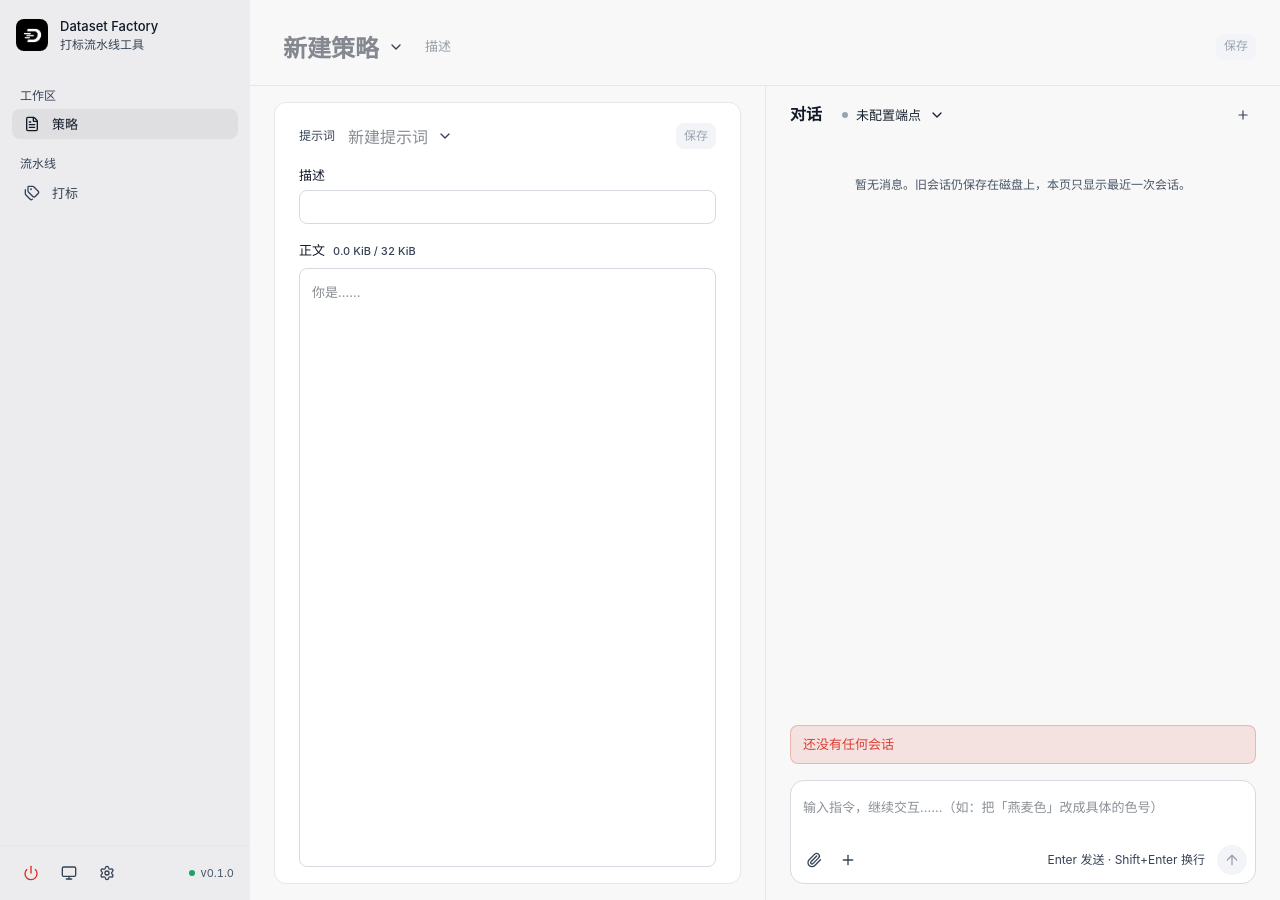
Test: App 外壳 › 设置侧栏切换子页并返回进入前的工作页
Click the button named "设置" at (107, 873), box top-left (92, 858), bottom-right (122, 888)
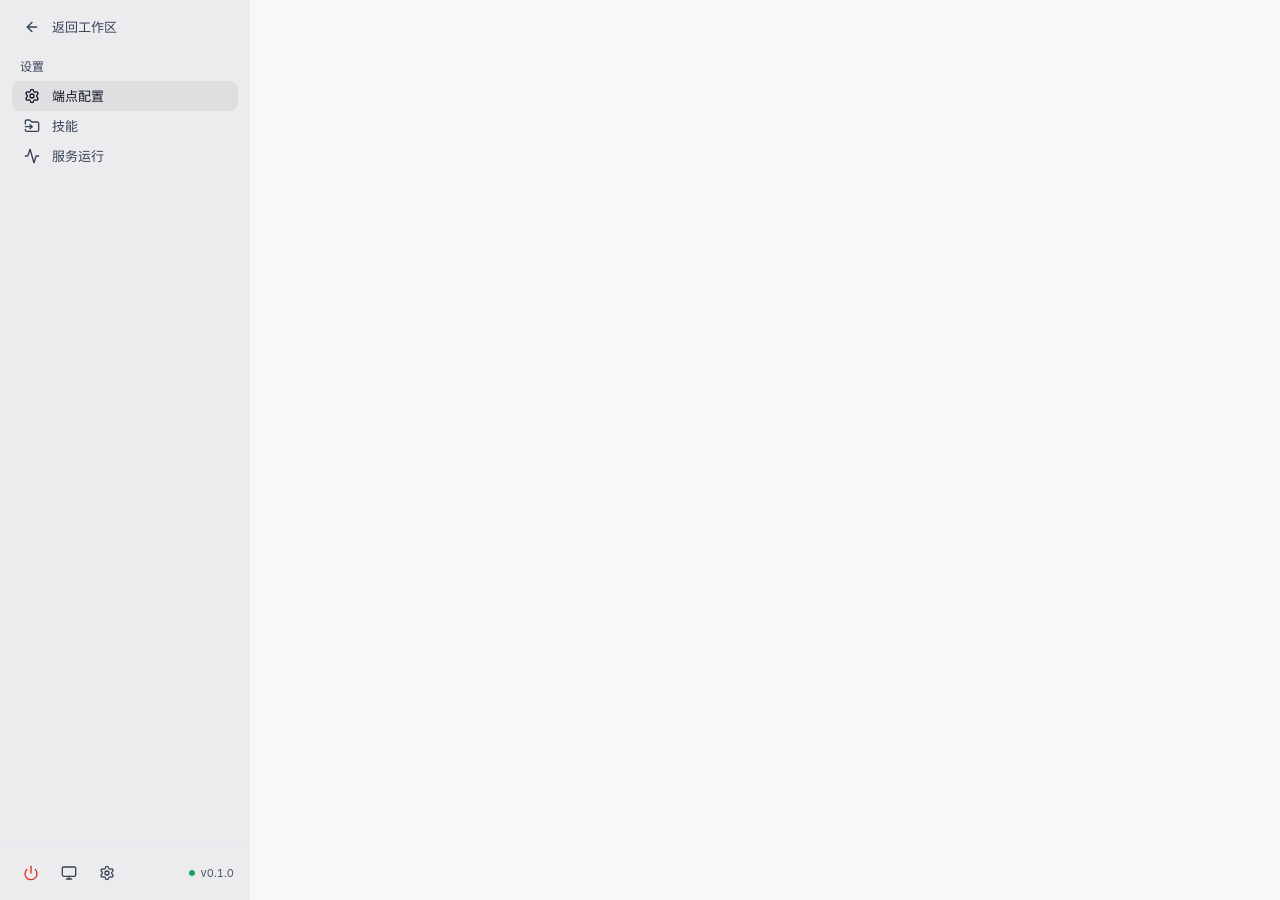
Click the button "技能" at (125, 126), box top-left (12, 111), bottom-right (238, 141)
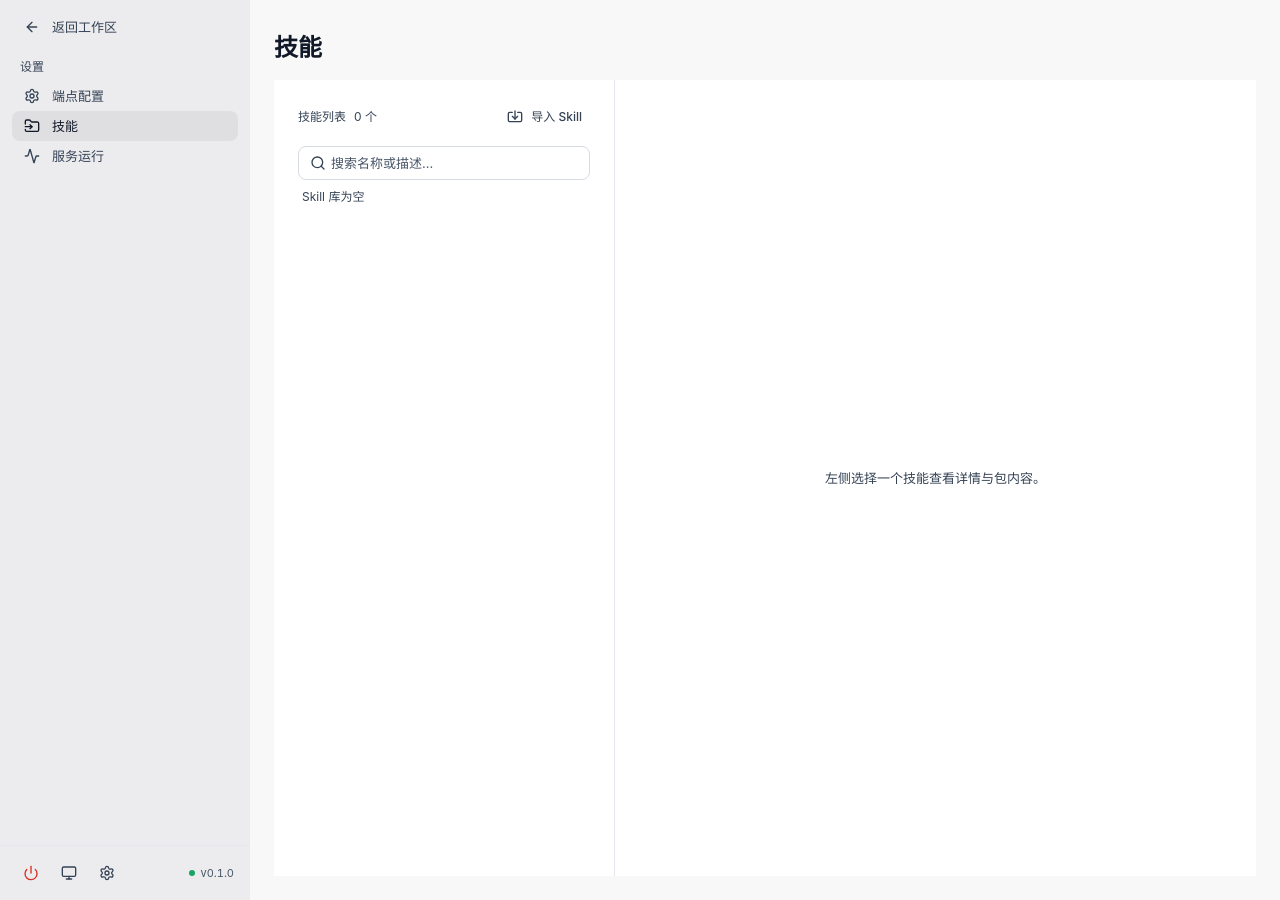
Expected: the number of navigation bars is 1, top-left (12, 12), bottom-right (238, 171)
Now the heading "技能" is shown, box top-left (274, 33), bottom-right (322, 62)
Click the button "返回工作区" at (125, 27), box top-left (12, 12), bottom-right (238, 42)
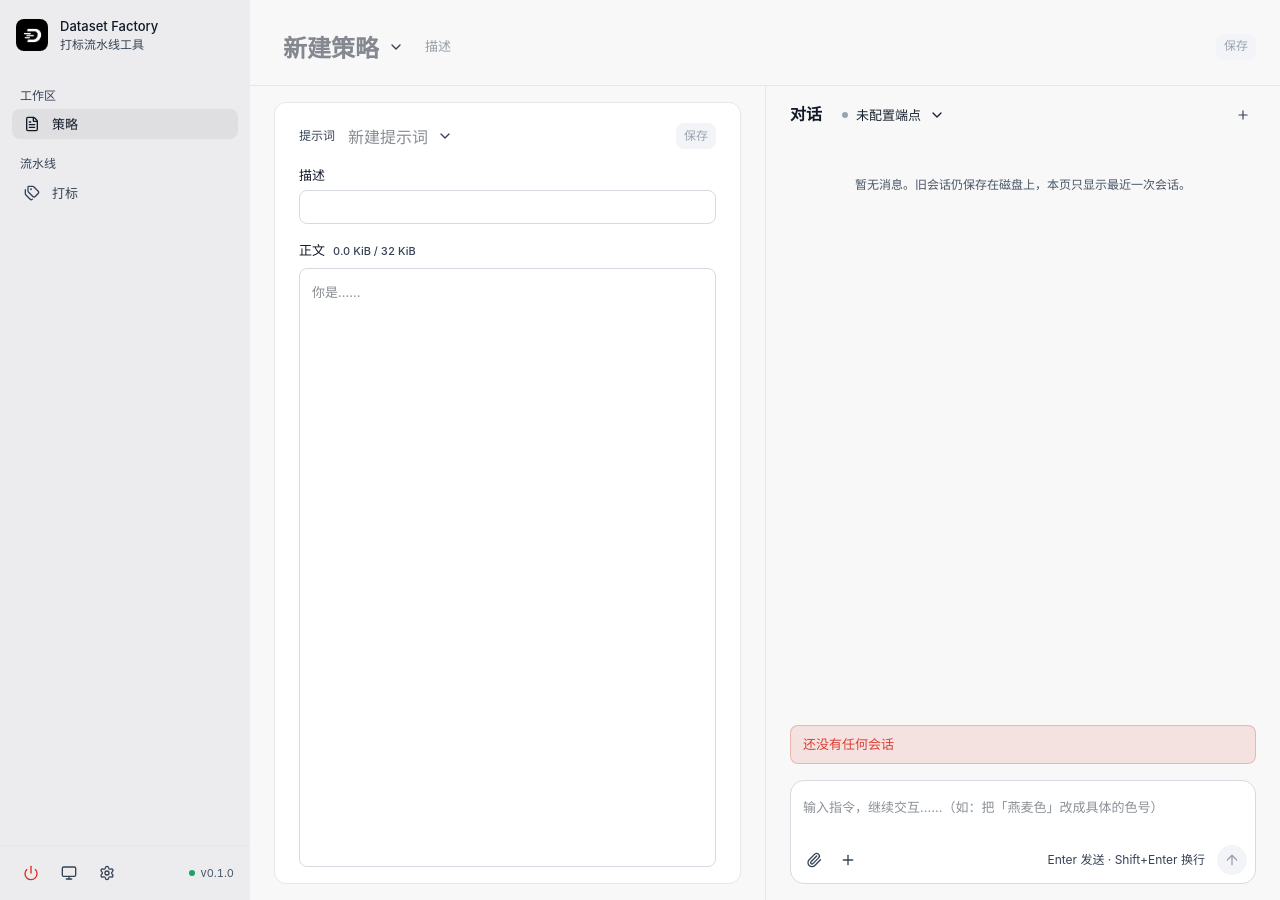
Click the button named "切换提示词" at (445, 136), box top-left (433, 124), bottom-right (457, 148)
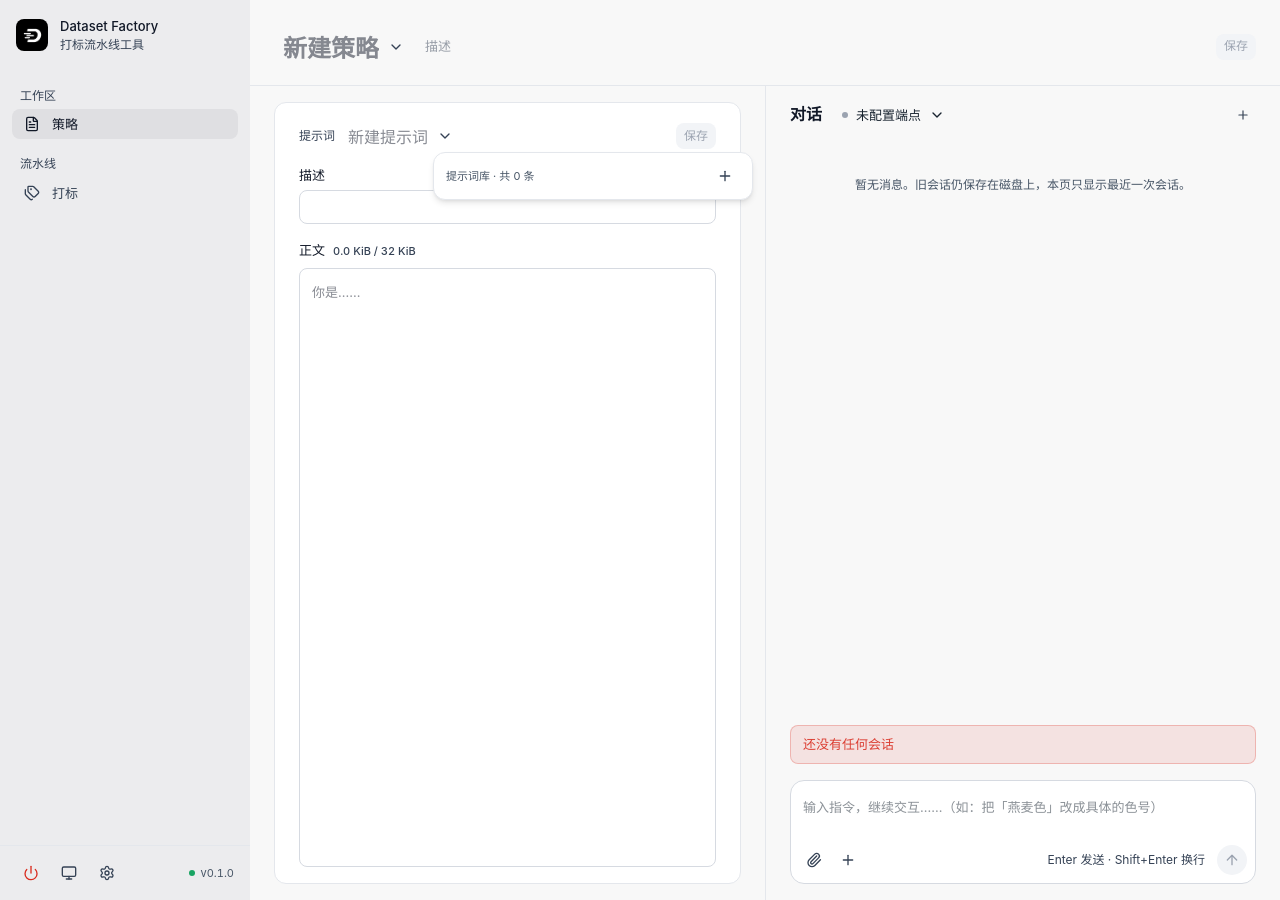
Now the button named "新建提示词" is shown, box top-left (710, 161), bottom-right (740, 191)
